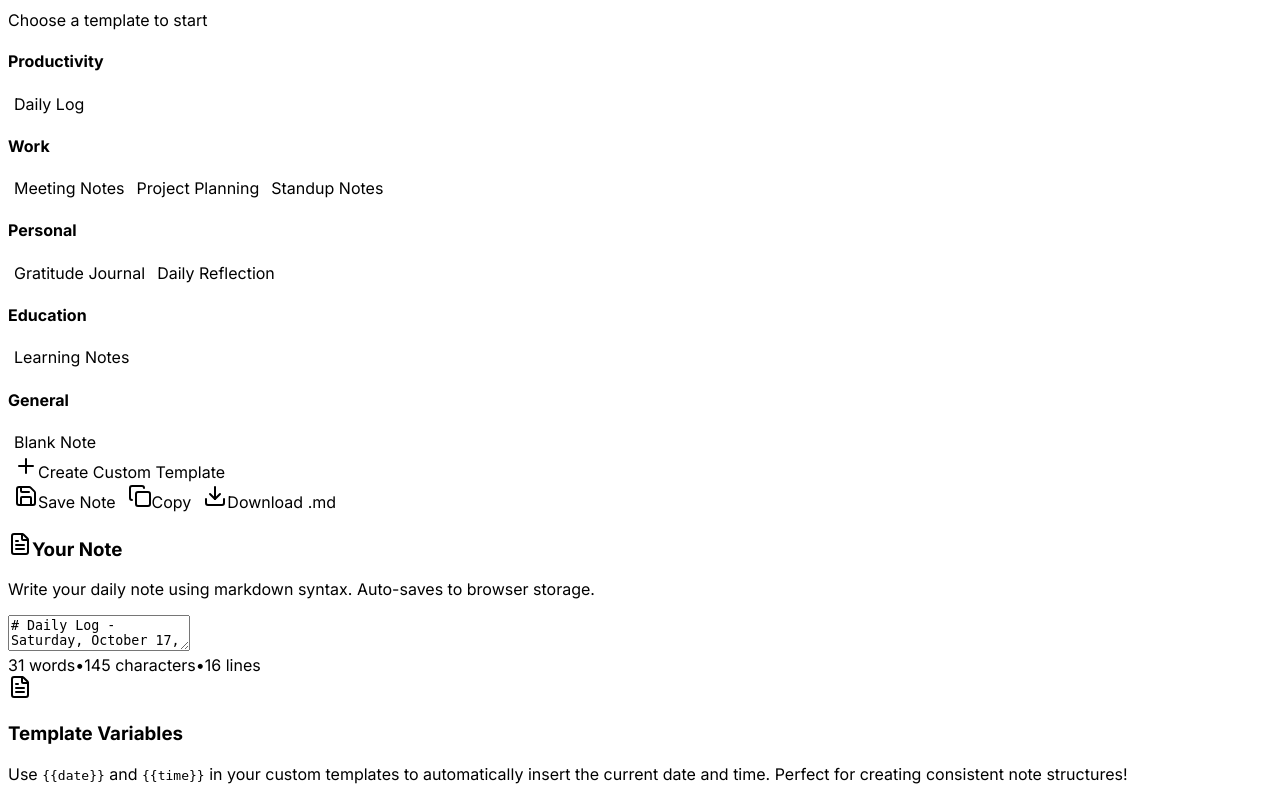
Scenario: Daily Note Page - Custom Template Tests › should show custom template creator
The image size is (1280, 800).
(page scrolled)
Step 1. Click the button "Create Custom Template" → (120, 468), box [8,453,231,483]
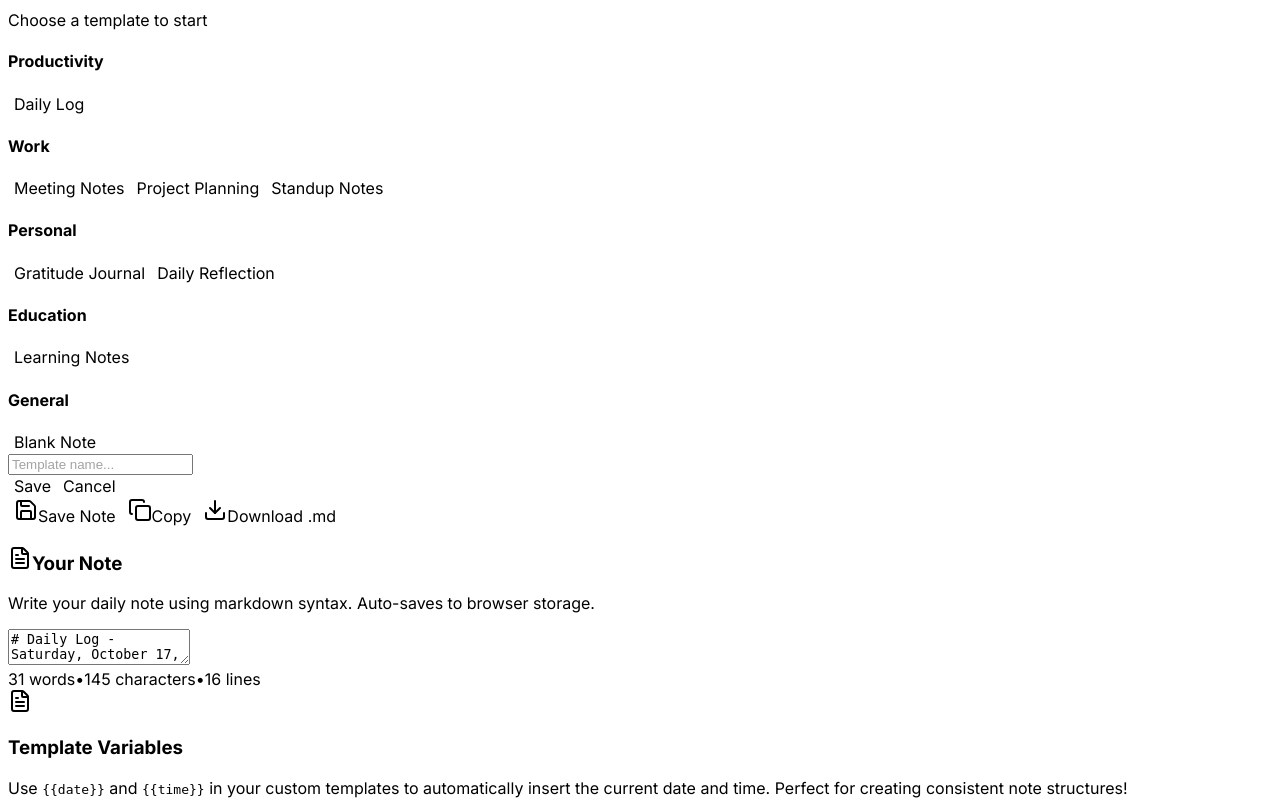
expect the field with placeholder "Template name..." is shown: met, box [8,454,193,475]
expect the button "Save" is shown: met, box [8,475,57,497]
expect the button "Cancel" is shown: met, box [57,475,122,497]
